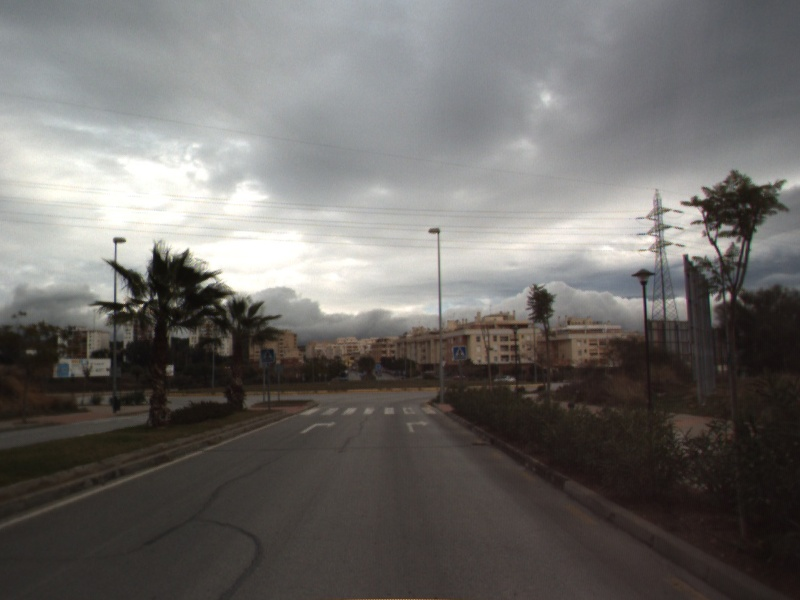RIGHT: (298, 419, 338, 435), (404, 418, 431, 434)
